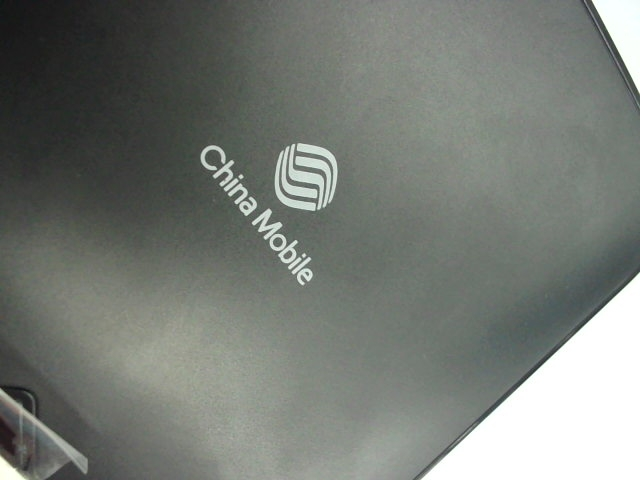AA_ChinaMobile: (194, 132, 367, 288)
